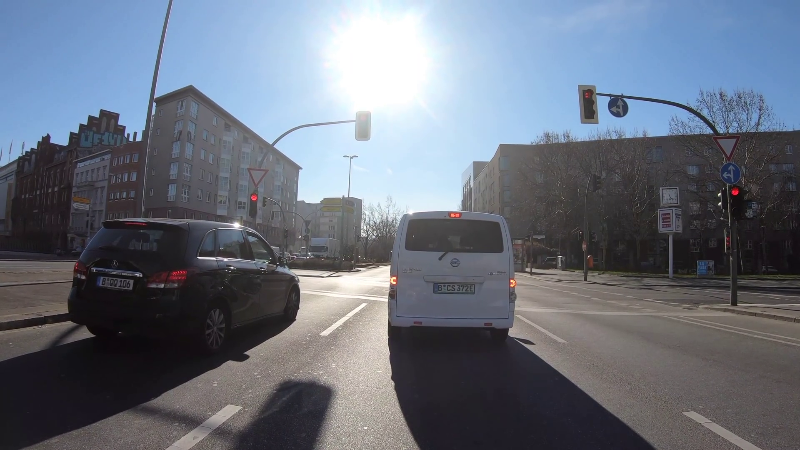Plate: (92, 277, 135, 293), (432, 281, 476, 296)
